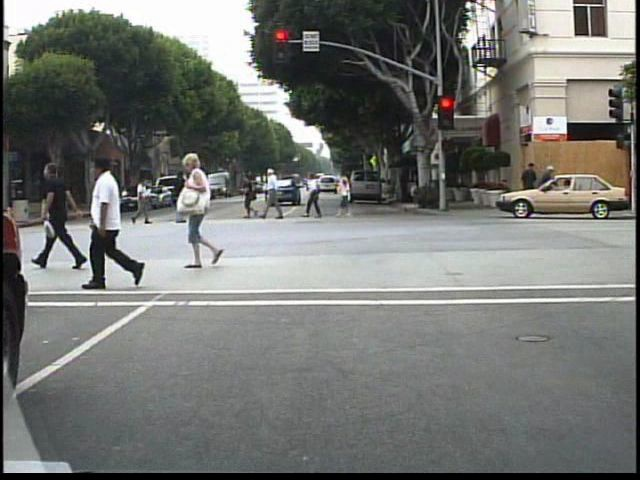person: (96, 147, 172, 294), (35, 159, 93, 276), (181, 151, 238, 269), (263, 166, 291, 222), (131, 173, 156, 226), (305, 169, 329, 223), (238, 171, 261, 222), (4, 185, 24, 236), (519, 159, 540, 207), (538, 160, 557, 213), (13, 196, 34, 238), (174, 172, 188, 229)
